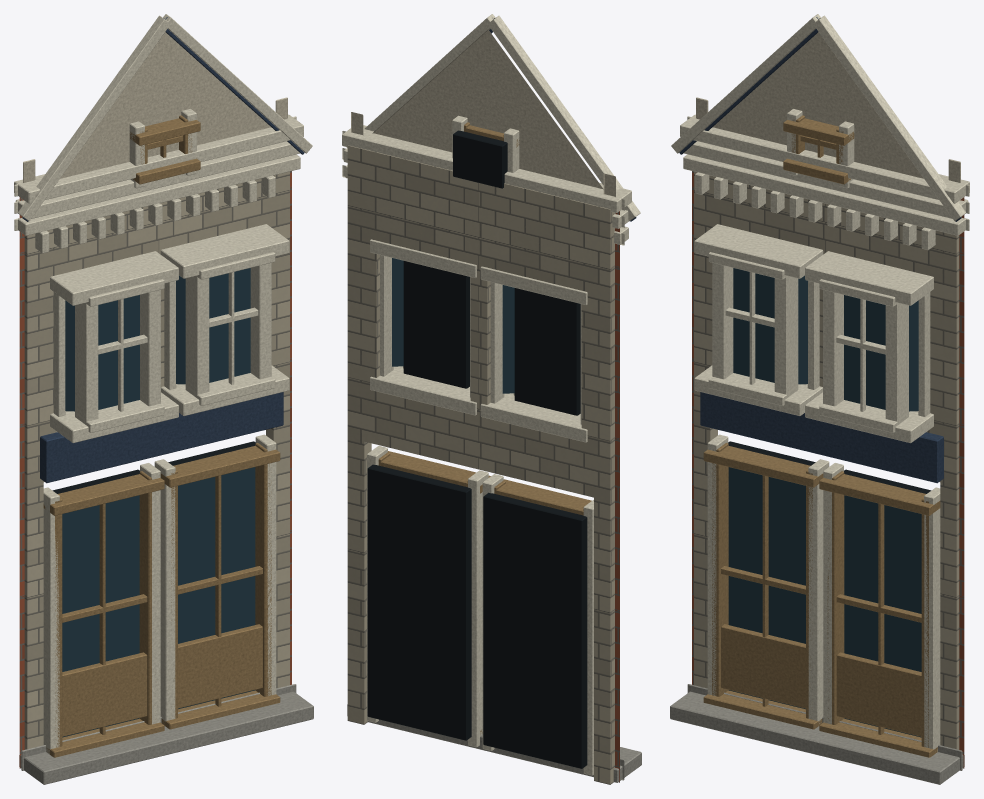
Rendered from BUSS7_lod1.glb.
3 renders of one model, left to right at view 1: azimuth 30°, elevation 25°; view 2: azimuth 150°, elevation 25°; view 3: azimuth 330°, elevation 25°, orthographic.
Parts seen in each view (by area): view 1: BUSS7_FRONT_LOD1; view 2: BUSS7_FRONT_LOD1; view 3: BUSS7_FRONT_LOD1.
Part boxes in pixels (x1,y1,x2,y2): BUSS7_FRONT_LOD1: (14, 14, 313, 784); BUSS7_FRONT_LOD1: (342, 14, 641, 784); BUSS7_FRONT_LOD1: (670, 14, 969, 784).
Size of the model in its own units: 3.53 by 8.45 by 0.765.
Materials: 10 (8 with a texture image).
